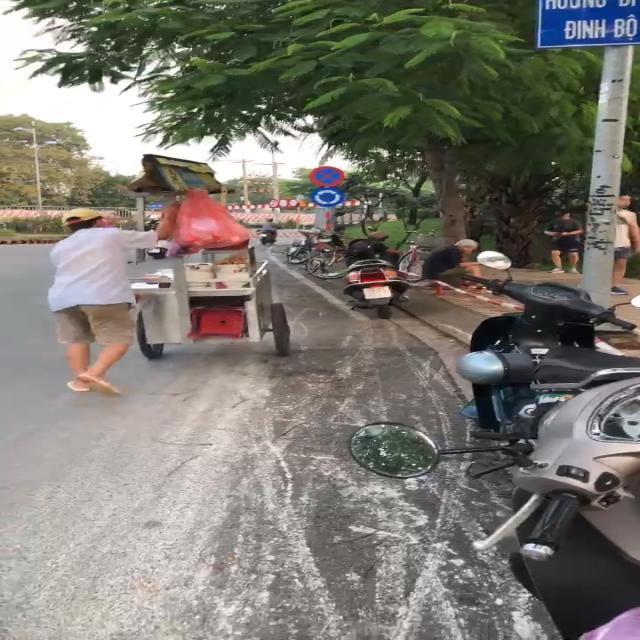Bien bao cam dung xe va do xe: (308, 166, 350, 187)
Bien bao noi giao nhau chay theo vong xuyen: (304, 187, 350, 209)
